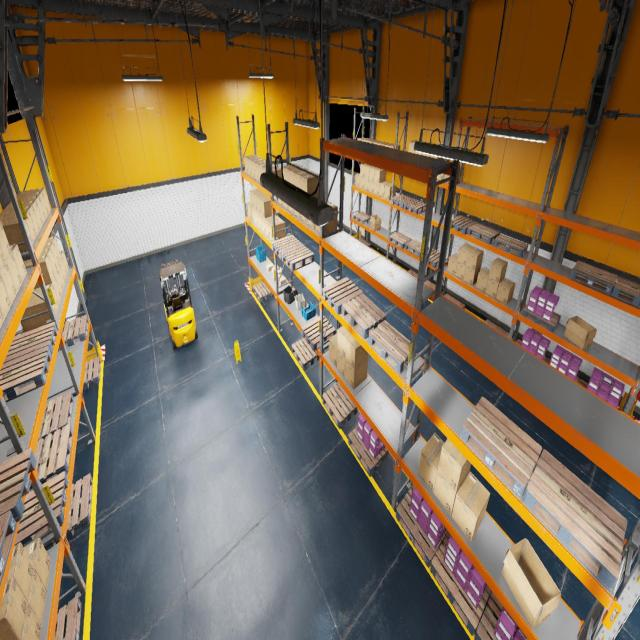box: (502, 538, 560, 629), (452, 471, 490, 542), (438, 438, 471, 492), (0, 578, 28, 640), (6, 542, 34, 602), (434, 470, 469, 515), (418, 432, 444, 492), (24, 538, 51, 592), (20, 294, 57, 332), (0, 205, 40, 235), (0, 210, 37, 242), (3, 200, 43, 229), (0, 218, 33, 253), (23, 254, 55, 289), (564, 316, 597, 349), (28, 568, 46, 626), (8, 196, 46, 223), (16, 191, 48, 218), (16, 188, 50, 213), (30, 284, 59, 313), (345, 335, 368, 369), (344, 359, 368, 389), (0, 263, 17, 305), (315, 202, 337, 234), (22, 604, 41, 639), (6, 253, 22, 292), (10, 244, 26, 282), (308, 200, 329, 228), (496, 278, 515, 305), (300, 172, 319, 198), (0, 222, 12, 262), (40, 248, 57, 276), (0, 275, 11, 318), (489, 257, 507, 283), (337, 326, 351, 358), (43, 242, 59, 268), (466, 247, 483, 270), (46, 236, 61, 262), (294, 169, 314, 188), (485, 278, 504, 298), (269, 219, 286, 241), (457, 243, 474, 265), (265, 215, 280, 238), (260, 197, 276, 218), (476, 268, 490, 292), (288, 167, 307, 184), (464, 266, 481, 285), (283, 163, 301, 180), (250, 158, 265, 178), (258, 163, 273, 182), (247, 156, 261, 176), (444, 165, 460, 182), (244, 154, 258, 173), (329, 334, 337, 366), (254, 160, 266, 181), (447, 253, 458, 275), (53, 276, 61, 305), (337, 349, 345, 378), (256, 194, 267, 214), (253, 191, 264, 211), (56, 269, 64, 296), (60, 250, 69, 274), (430, 144, 444, 159), (378, 182, 391, 198), (384, 183, 396, 200), (250, 188, 260, 208), (455, 262, 466, 280), (422, 143, 437, 156), (370, 214, 381, 230), (58, 263, 65, 288), (60, 256, 67, 281), (374, 168, 386, 182), (0, 246, 6, 272), (262, 164, 278, 173), (416, 142, 428, 154), (408, 140, 419, 153), (272, 166, 282, 178), (369, 167, 378, 180), (364, 165, 372, 179), (0, 306, 5, 328), (360, 164, 368, 177), (257, 212, 262, 230), (373, 181, 379, 195), (261, 215, 265, 234), (278, 276, 286, 285), (254, 208, 258, 226), (368, 180, 374, 192), (355, 173, 360, 187), (364, 178, 369, 191), (359, 176, 364, 189), (273, 274, 281, 282), (266, 263, 274, 271), (250, 206, 254, 222), (247, 202, 251, 218), (388, 144, 400, 149), (301, 214, 307, 223), (272, 266, 279, 273), (294, 210, 300, 218), (288, 206, 294, 214), (283, 202, 289, 210), (278, 198, 284, 206), (371, 140, 382, 144), (366, 139, 377, 143), (437, 174, 444, 180), (278, 266, 282, 276), (362, 138, 372, 142), (382, 143, 393, 146), (377, 142, 387, 145), (357, 138, 368, 140)
forklift: (159, 259, 198, 350)
pallets: (522, 449, 628, 591), (460, 396, 542, 499), (430, 531, 491, 636), (396, 484, 448, 568), (15, 471, 68, 546), (44, 474, 93, 550), (29, 424, 73, 492), (0, 346, 52, 402), (0, 448, 37, 522), (368, 320, 416, 373), (3, 322, 58, 362), (342, 293, 386, 339), (348, 426, 388, 476), (474, 592, 513, 640), (38, 391, 74, 440), (570, 260, 618, 294), (322, 382, 357, 428), (322, 277, 363, 315), (0, 511, 17, 586), (54, 596, 82, 640), (301, 315, 335, 351), (579, 379, 618, 408), (522, 303, 561, 332), (58, 314, 89, 350), (291, 337, 319, 370), (545, 357, 580, 383), (611, 276, 640, 307), (281, 244, 314, 271), (493, 234, 528, 257), (271, 235, 302, 259), (467, 223, 500, 244), (516, 339, 546, 361), (83, 356, 101, 391), (451, 215, 477, 234), (404, 239, 428, 257), (485, 320, 509, 338), (253, 282, 274, 302), (389, 232, 412, 248), (403, 199, 426, 215), (444, 293, 465, 309), (391, 194, 414, 208), (427, 249, 440, 268), (353, 212, 370, 224), (424, 280, 441, 292), (357, 238, 371, 248), (407, 270, 418, 278)
